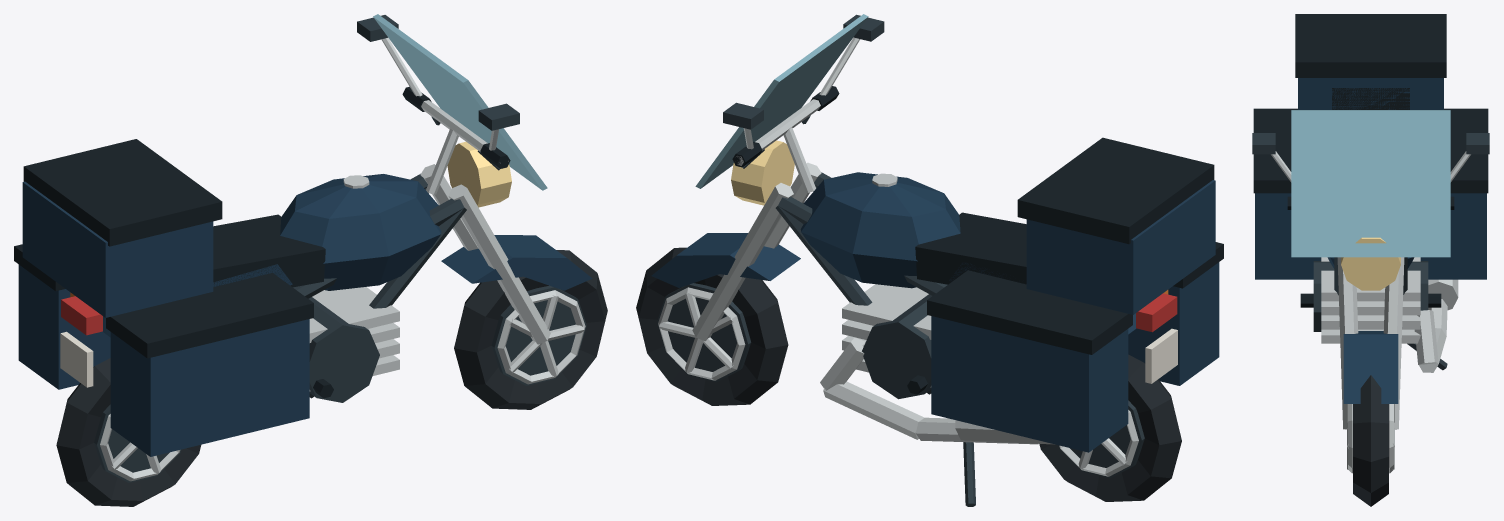
File: b03_luggage_touring_motorcycle.glb
3 views of the same model, side by side, from view 1: azimuth 30°, elevation 25°; view 2: azimuth 150°, elevation 25°; view 3: azimuth 270°, elevation 25° (orthographic). The views are drawn at different scales.
Parts seen in each view (by area): view 1: b03_luggage_touring_motorcycle; view 2: b03_luggage_touring_motorcycle; view 3: b03_luggage_touring_motorcycle.
Part boxes in pixels (x1=…): b03_luggage_touring_motorcycle: x1=14, y1=14, x2=607, y2=506; b03_luggage_touring_motorcycle: x1=636, y1=14, x2=1223, y2=506; b03_luggage_touring_motorcycle: x1=1252, y1=14, x2=1489, y2=506.
Size of the model in its own units: 2.15 by 1.45 by 0.91.
